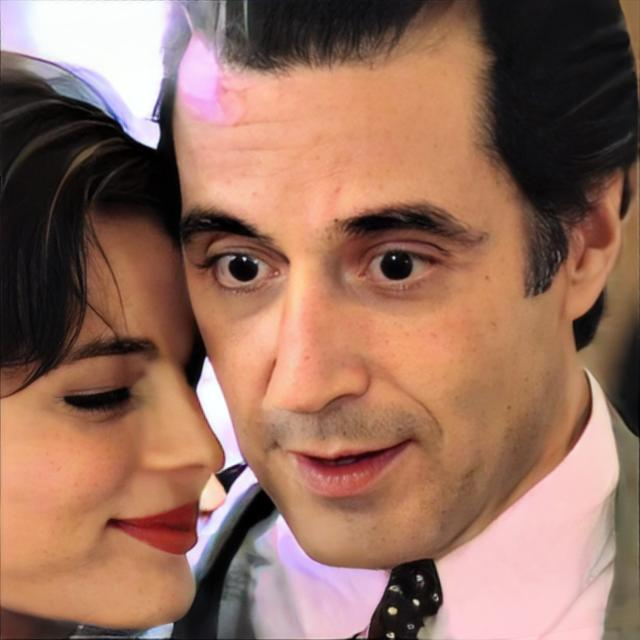happy: (174, 38, 564, 570), (0, 175, 228, 638)
